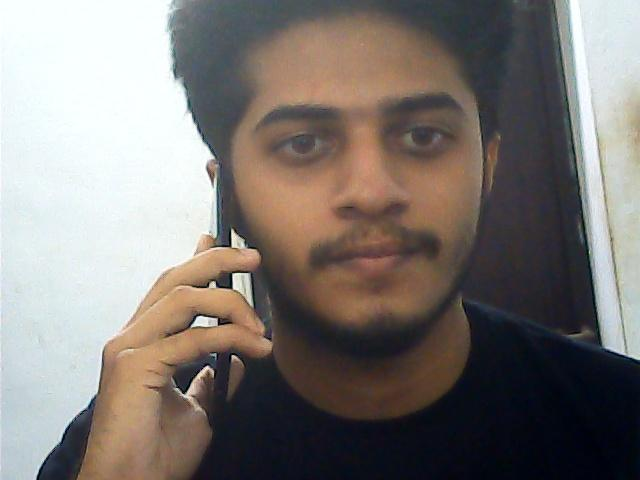PhoneUse: (191, 168, 275, 408)
SafeDriving: (380, 103, 467, 164), (261, 114, 348, 168)
